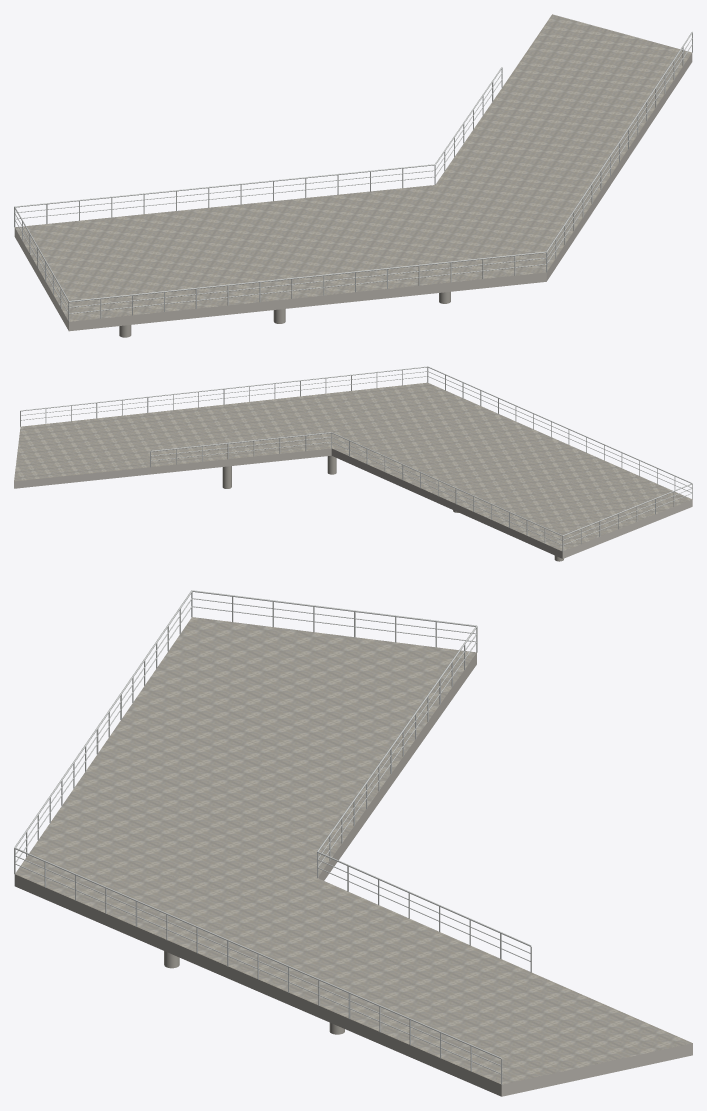
The picture shows the model from 3 angles, top to bottom: view 1: azimuth 30°, elevation 25°; view 2: azimuth 150°, elevation 25°; view 3: azimuth 270°, elevation 25°; orthographic projection. The views are drawn at different scales.
Parts seen in each view (by area): view 1: Landing wearing course, Waterfront handrails, Exposed deck edge; view 2: Landing wearing course, Waterfront handrails, Exposed deck edge, Deck soffit and piles; view 3: Landing wearing course, Waterfront handrails, Exposed deck edge.
Part boxes in pixels (bbox=[...]): Landing wearing course: bbox=[15, 14, 691, 321]; Waterfront handrails: bbox=[14, 31, 692, 321]; Exposed deck edge: bbox=[14, 53, 692, 331]; Landing wearing course: bbox=[14, 382, 691, 551]; Waterfront handrails: bbox=[20, 366, 692, 551]; Exposed deck edge: bbox=[14, 448, 692, 558]; Deck soffit and piles: bbox=[222, 455, 563, 561]; Landing wearing course: bbox=[15, 617, 692, 1084]; Waterfront handrails: bbox=[14, 590, 531, 1084]; Exposed deck edge: bbox=[14, 653, 692, 1096].
Bounding box in the file's own units: 41.28 × 3.73 × 25.3.
Materials: 4 (1 with a texture image).
